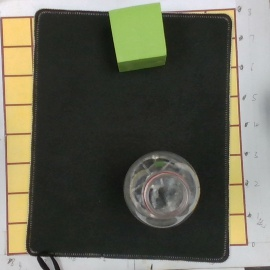bottle: (121, 151, 201, 230)
